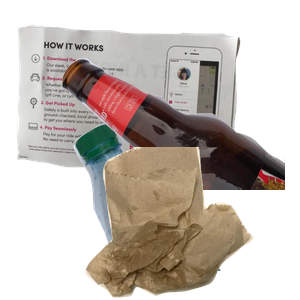glass: (60, 56, 300, 236)
paper: (14, 22, 247, 191)
plastic: (71, 120, 300, 300)
trash: (83, 147, 300, 300)
